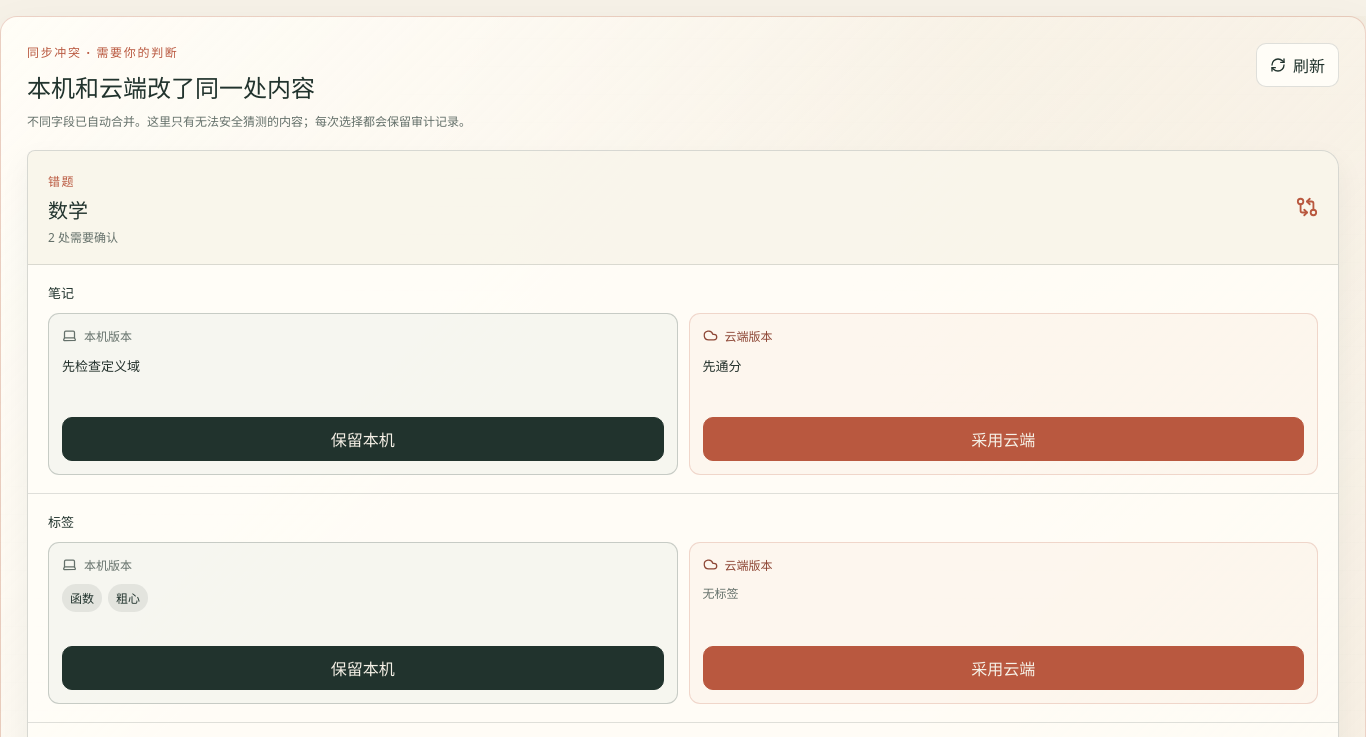
Test: SyncConflictCenter › resolves one field without hiding the other fields
What coordinates should you click on to do the following:
click the button with aria-label "笔记采用云端版本"
I would click on:
 (1003, 439)
Its box is [702,417,1304,461].
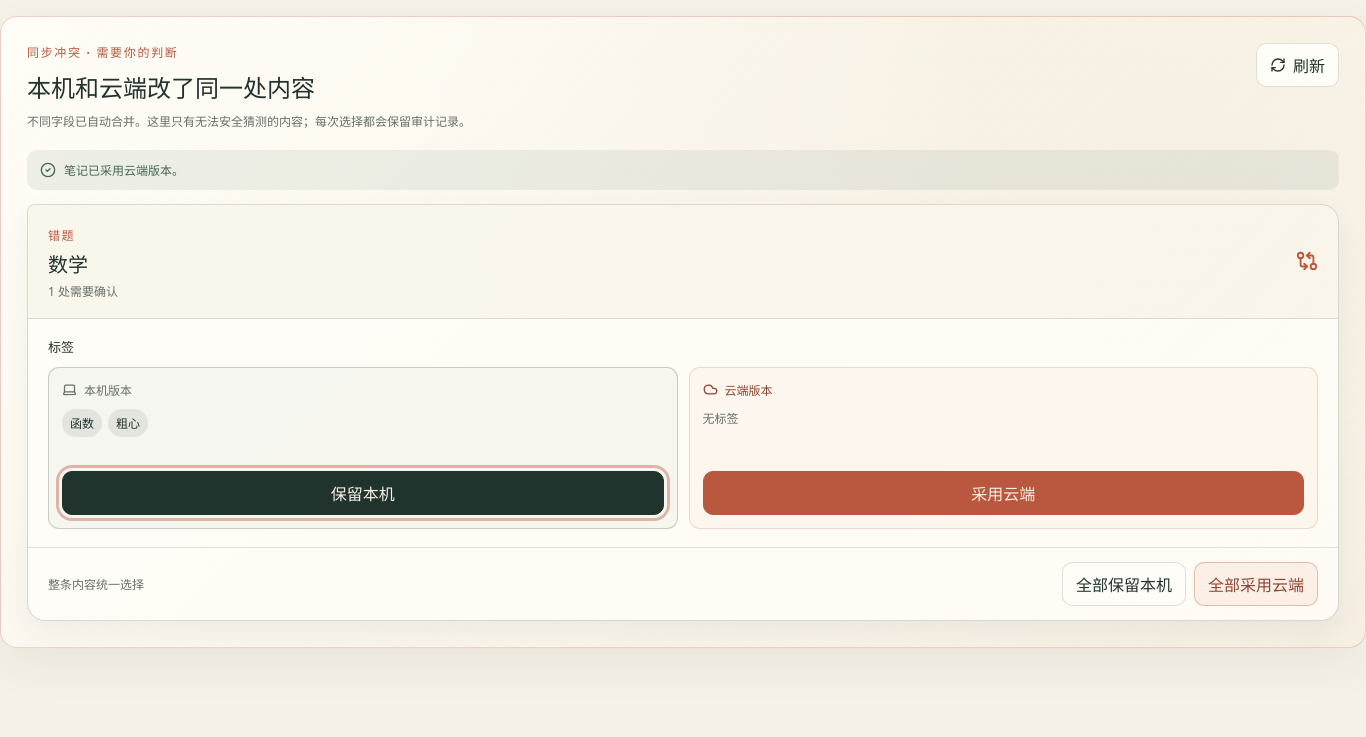
Expected: the element named "标签冲突" is shown, [28,319,1338,548]
Expected: the element "笔记冲突" is gone
